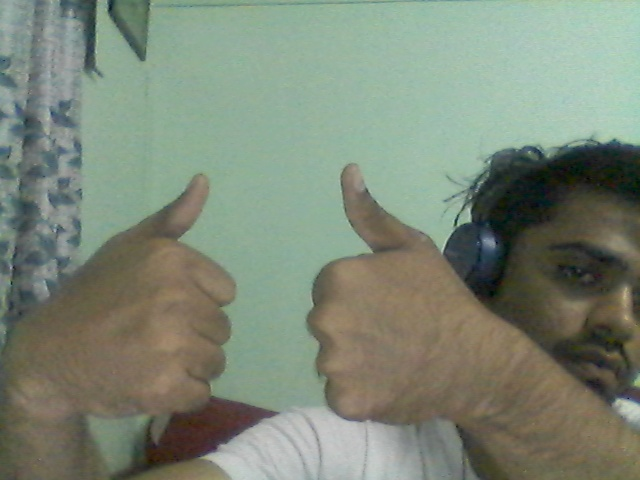Thank You: (4, 129, 572, 473)
